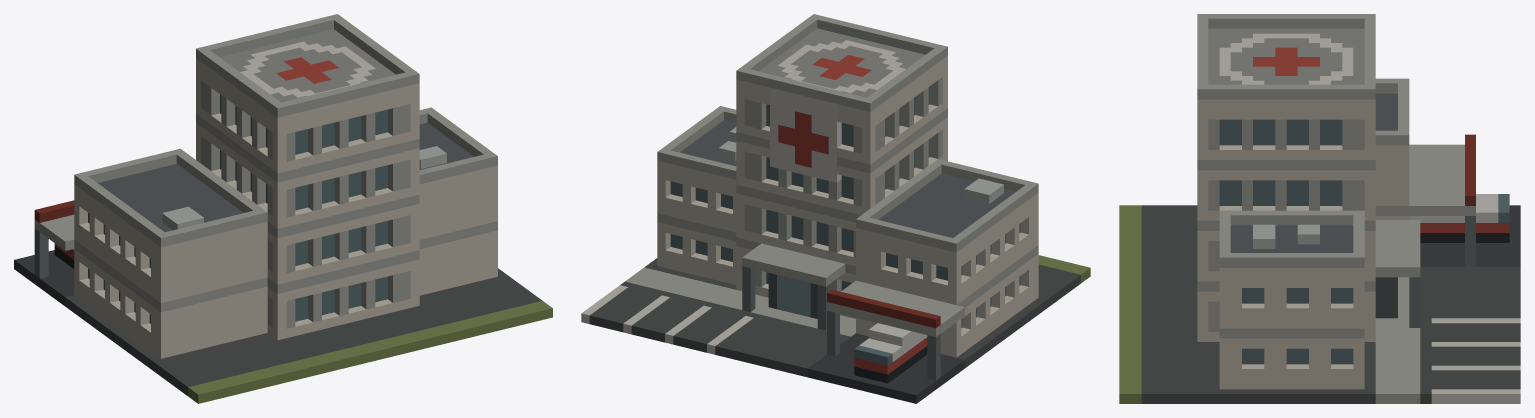
File: Claude_hospital.glb
The picture shows the model from 3 angles, left to right: view 1: azimuth 30°, elevation 25°; view 2: azimuth 150°, elevation 25°; view 3: azimuth 270°, elevation 25°; orthographic projection. The views are drawn at different scales.
Visible parts, largest first — view 1: Claude_hospital; view 2: Claude_hospital; view 3: Claude_hospital.
Boxes of the visible parts, x1,y1,x2,y2 form: Claude_hospital: (14, 14, 552, 403); Claude_hospital: (581, 14, 1090, 403); Claude_hospital: (1119, 14, 1520, 403).
Bounding box in the file's own units: 20 × 13 × 18.
